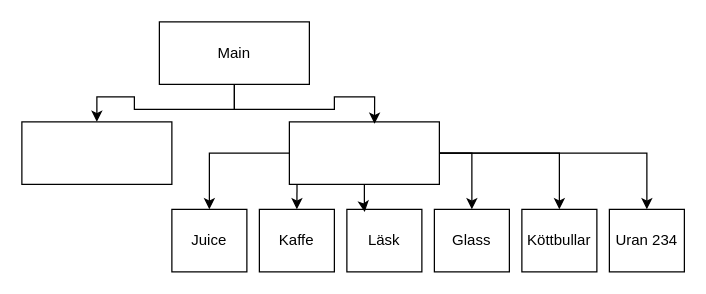
The diagram is 706 pixels wide and 294 high, and some of its shapes have lost their labels. Here are the shapes that lost their labels. From the top down, the centre of each, then its label:
the point at 96,152: Varukorg
the point at 363,152: Produkter
